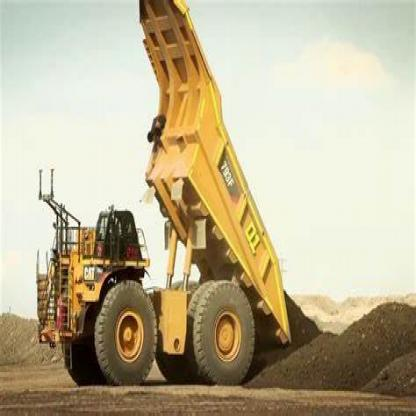dump_truck: (30, 1, 294, 402)
